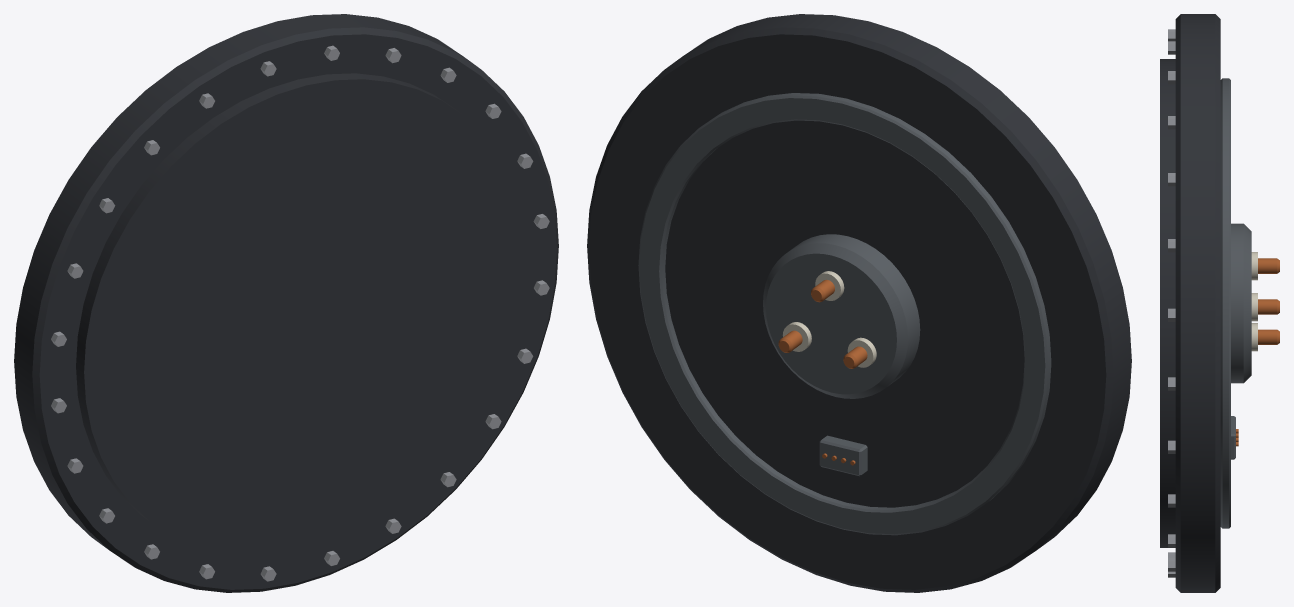
The model's file is n1_flange.obj.
The picture shows the model from 3 angles, left to right: view 1: azimuth 30°, elevation 25°; view 2: azimuth 150°, elevation 25°; view 3: azimuth 270°, elevation 25°; orthographic projection. The views are drawn at different scales.
Parts seen in each view (by area): view 1: n1_flange; view 2: n1_flange; view 3: n1_flange.
Boxes of the visible parts, x1=… form: n1_flange: x1=14, y1=14, x2=558, y2=592; n1_flange: x1=587, y1=14, x2=1131, y2=592; n1_flange: x1=1160, y1=14, x2=1279, y2=592.
Size of the model in its own units: 4.5 by 4.5 by 0.93.
